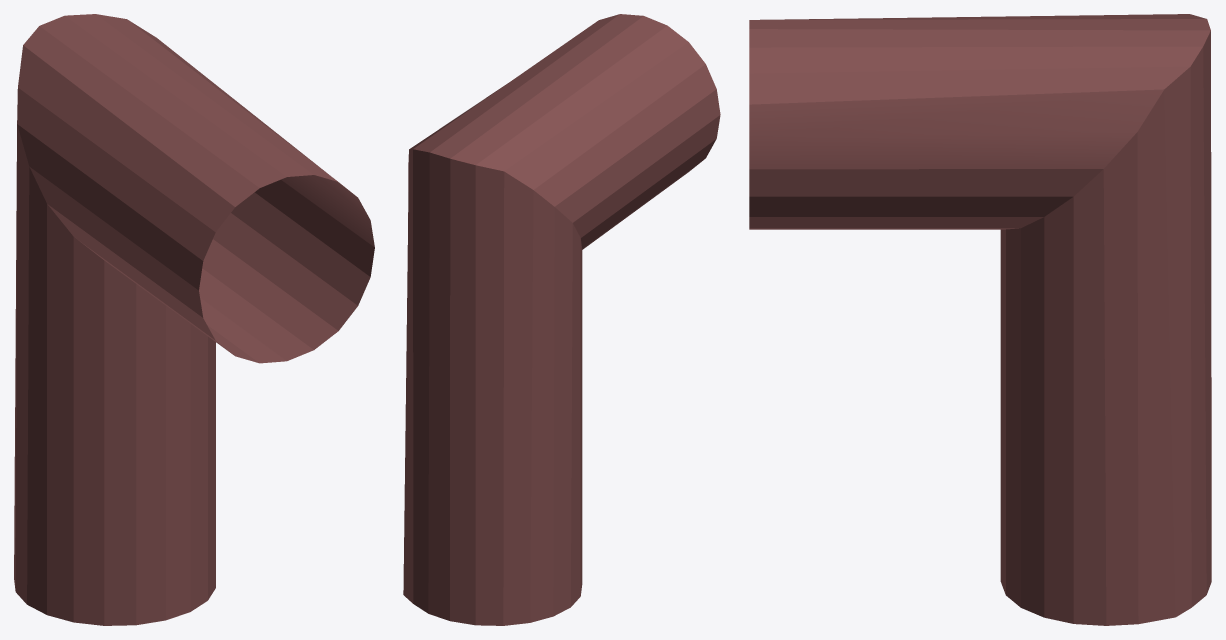
Rendered from SM_90Pipe.fbx.
3 views of the same model, side by side, from view 1: azimuth 30°, elevation 25°; view 2: azimuth 150°, elevation 25°; view 3: azimuth 270°, elevation 25° (orthographic). The views are drawn at different scales.
Visible parts, largest first — view 1: SM_90Pipe; view 2: SM_90Pipe; view 3: SM_90Pipe.
Part boxes in pixels (x1=…): SM_90Pipe: x1=14, y1=14, x2=374, y2=625; SM_90Pipe: x1=403, y1=14, x2=720, y2=625; SM_90Pipe: x1=749, y1=14, x2=1211, y2=625.
Bounding box in the file's own units: 12 × 34.65 × 26.3.
